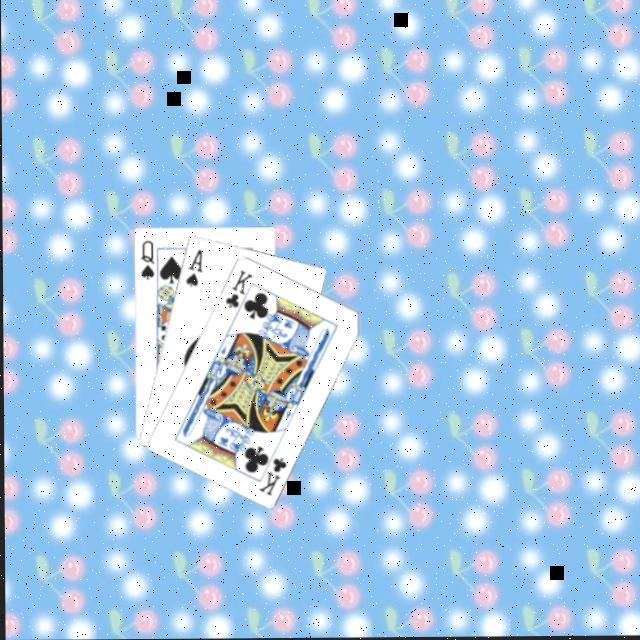AS: (179, 248, 203, 292)
KC: (251, 447, 287, 501), (219, 268, 255, 320)
QS: (134, 238, 154, 284)
